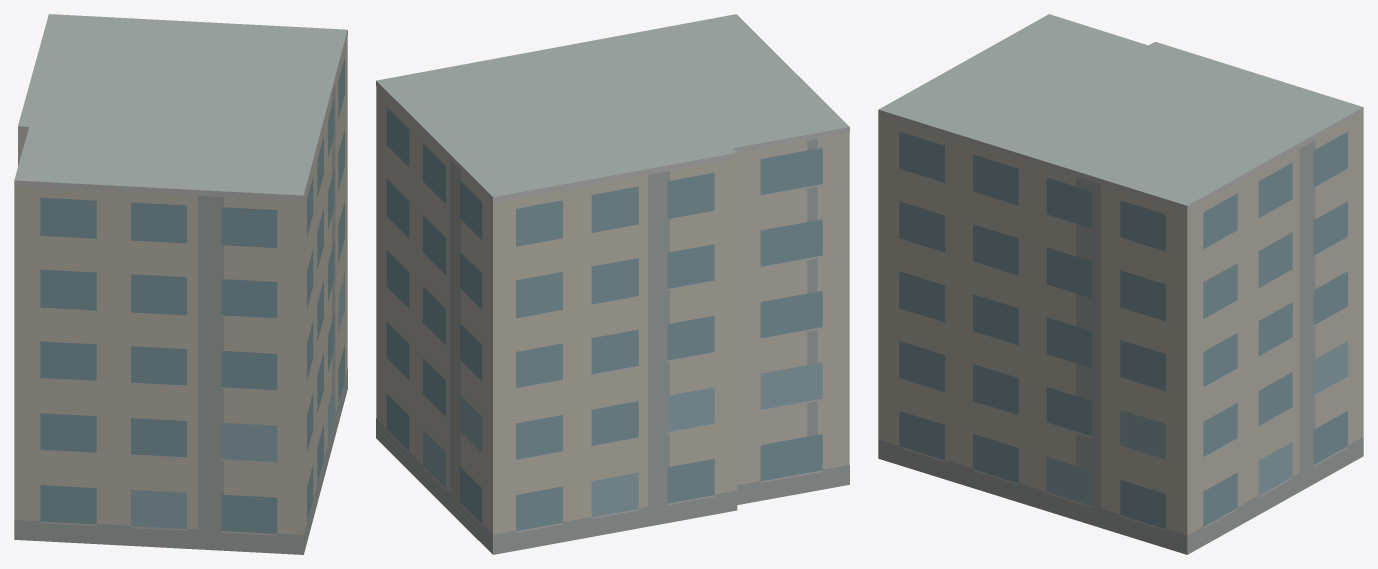
File: survey-upis-32761593.glb
3 renders of one model, left to right at view 1: azimuth 30°, elevation 25°; view 2: azimuth 150°, elevation 25°; view 3: azimuth 270°, elevation 25°, orthographic. The views are drawn at different scales.
Visible parts, largest first — view 1: survey-upis-32761593.tmp; view 2: survey-upis-32761593.tmp; view 3: survey-upis-32761593.tmp.
Boxes of the visible parts, x1,y1,x2,y2 form: survey-upis-32761593.tmp: (14,14,347,554); survey-upis-32761593.tmp: (376,14,849,554); survey-upis-32761593.tmp: (878,14,1363,554).
Size of the model in its own units: 17.98 by 15.25 by 19.22.
